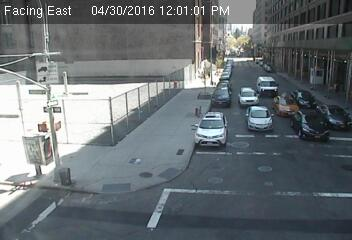neg: (300, 58, 330, 98), (113, 140, 140, 177), (63, 73, 90, 109), (236, 168, 262, 203), (203, 102, 227, 134), (113, 51, 136, 83), (279, 144, 302, 175), (32, 128, 55, 158), (240, 107, 260, 134), (168, 45, 188, 72), (177, 139, 195, 163), (177, 195, 195, 218), (62, 176, 79, 199), (305, 114, 321, 135), (241, 48, 254, 66)
